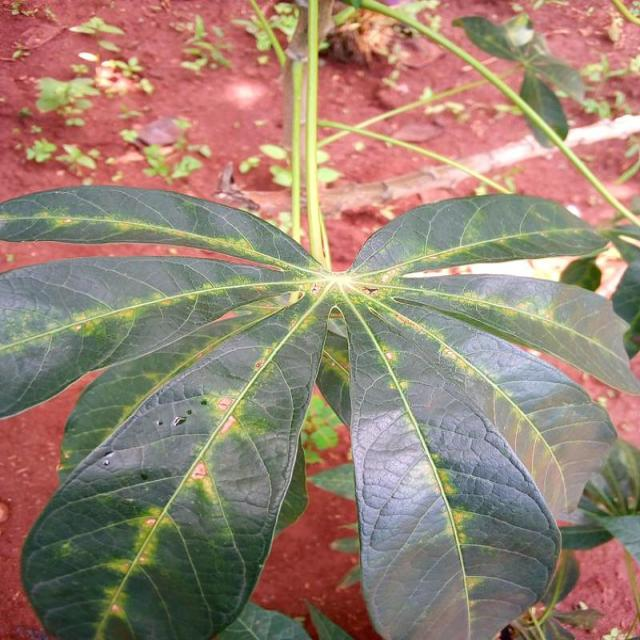Mosaico: (81, 197, 530, 598)
